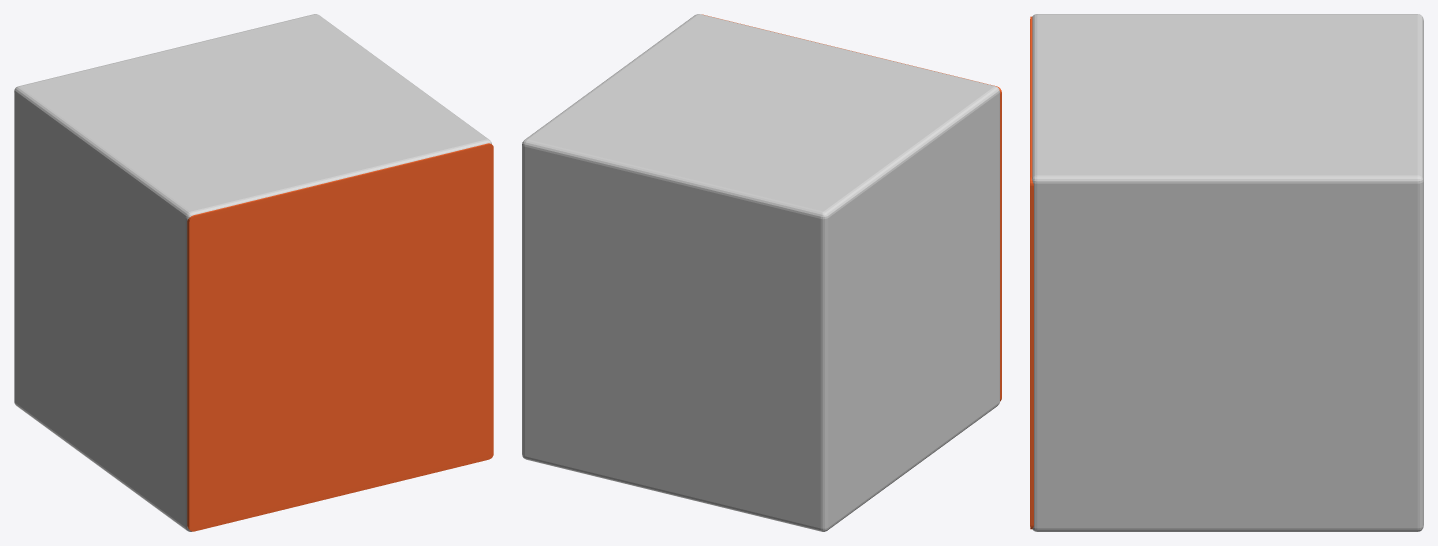
Rendered from platform.fbx.
3 views of the same model, side by side, from view 1: azimuth 30°, elevation 25°; view 2: azimuth 150°, elevation 25°; view 3: azimuth 270°, elevation 25° (orthographic). The views are drawn at different scales.
Parts seen in each view (by area): view 1: Cube.001, Cube.002; view 2: Cube.001, Cube.002; view 3: Cube.001, Cube.002.
Part boxes in pixels (x1,y1,x2,y2): Cube.001: [14, 14, 491, 531]; Cube.002: [187, 143, 493, 531]; Cube.001: [522, 14, 999, 531]; Cube.002: [702, 14, 1001, 401]; Cube.001: [1032, 14, 1423, 531]; Cube.002: [1030, 16, 1033, 529].
Size of the model in its own units: 200 by 200 by 200.
